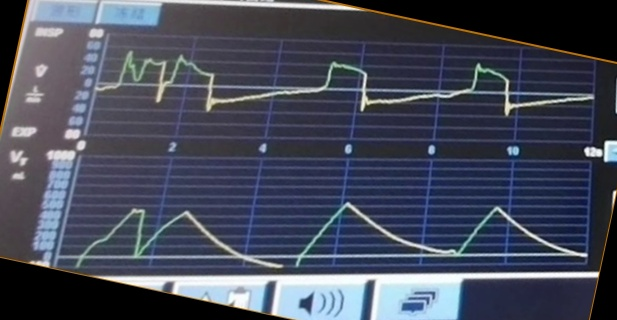Double_Triggering Flow: (105, 47, 546, 136)
Double_Triggering Volume: (77, 200, 576, 270)
